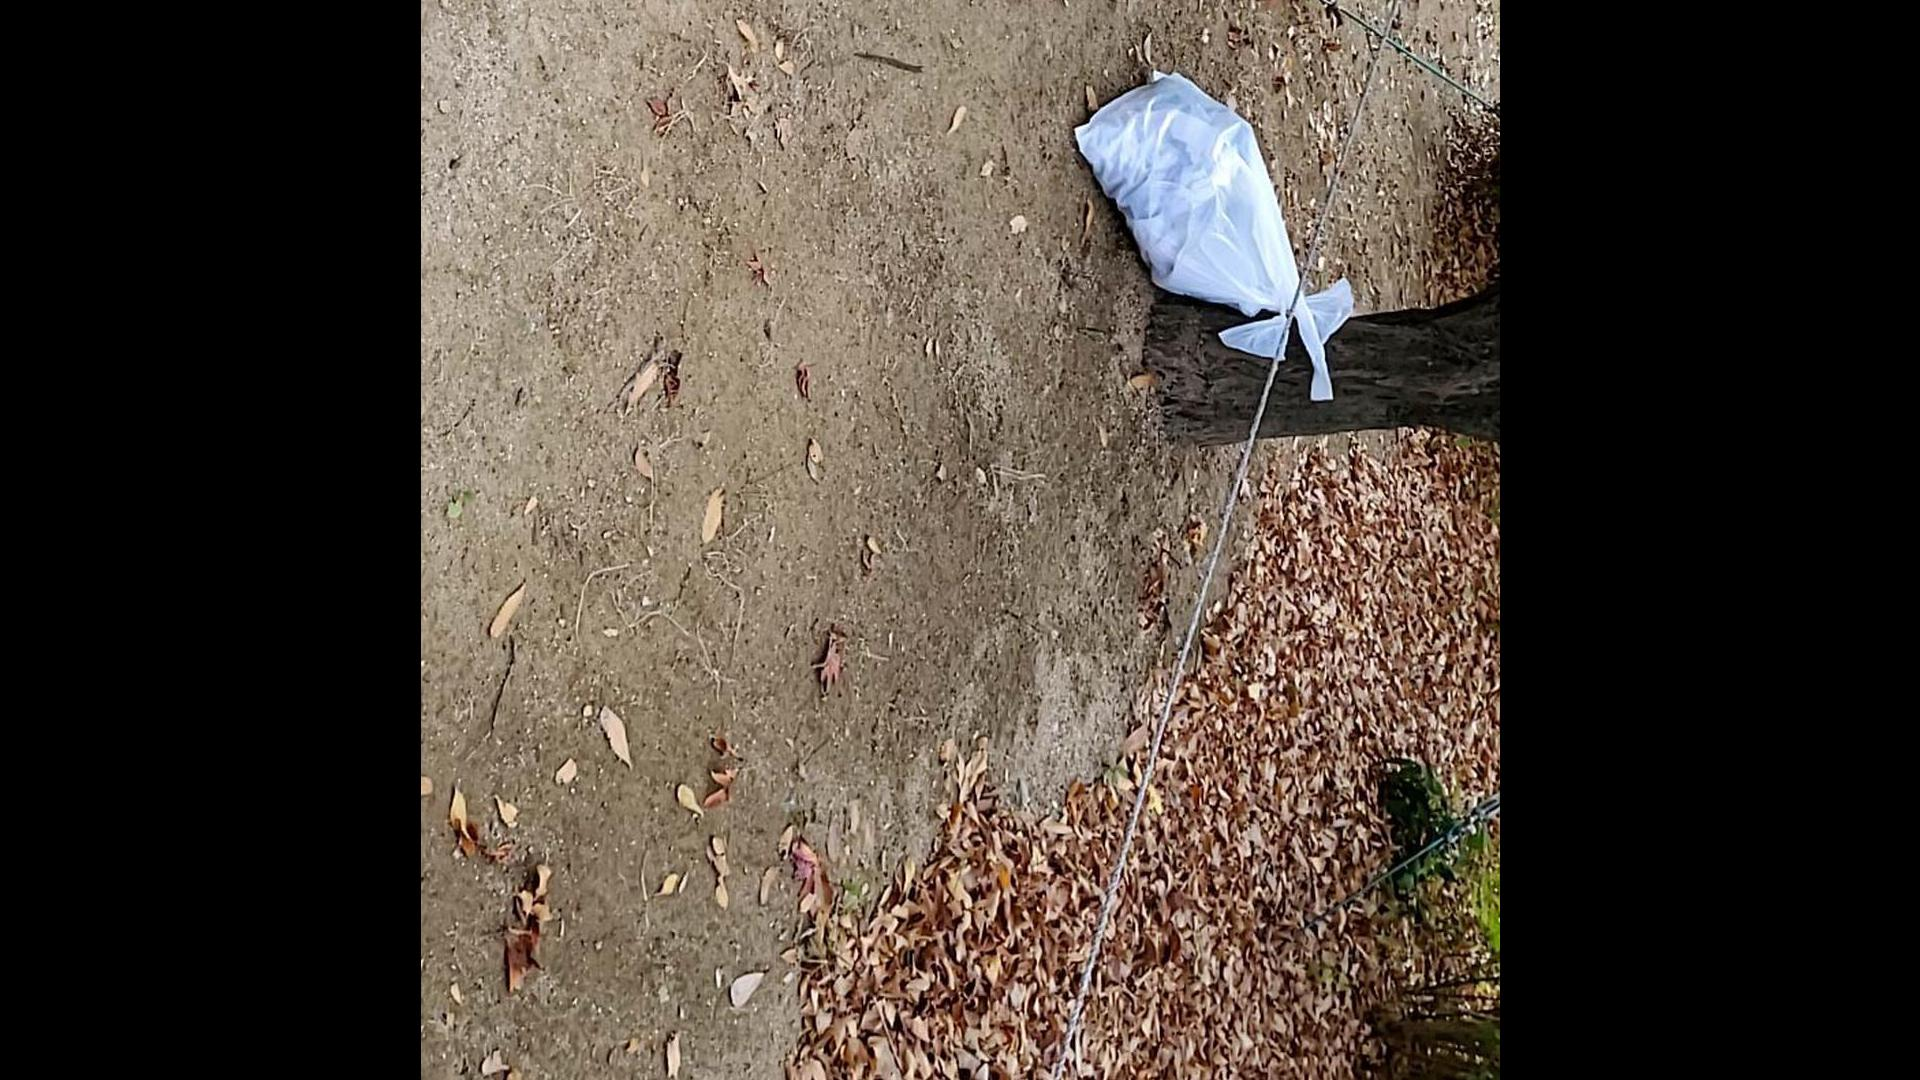white_bag: (1060, 53, 1370, 410)
